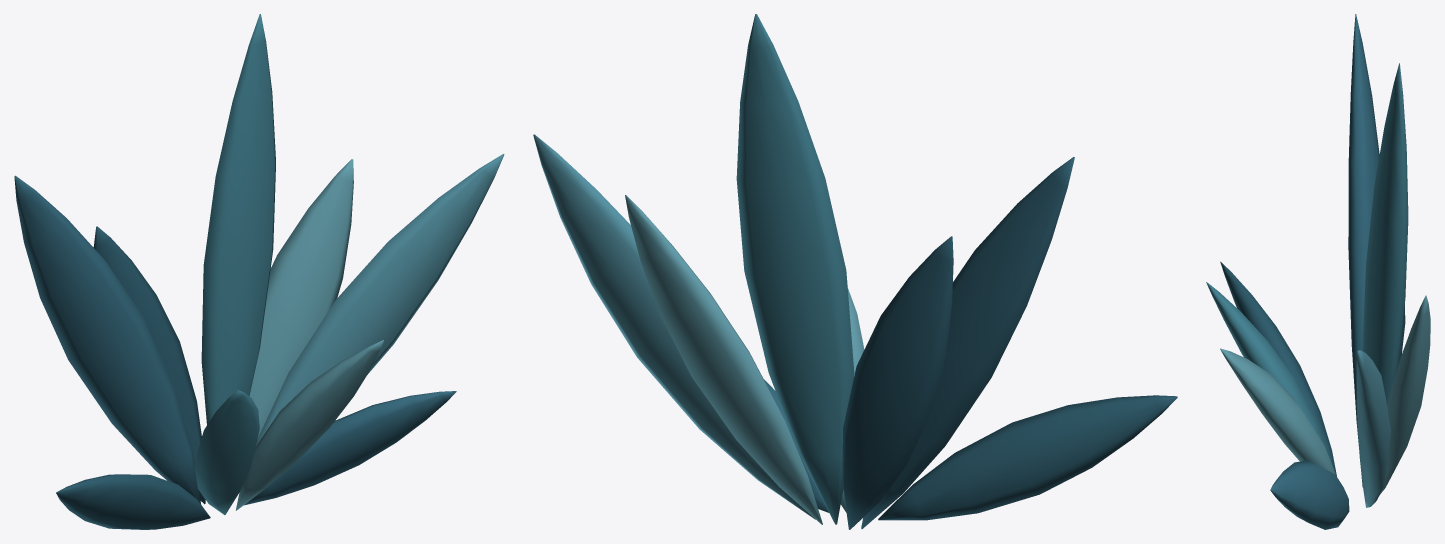
File: teal_grass_tuft.glb
The picture shows the model from 3 angles, left to right: view 1: azimuth 30°, elevation 25°; view 2: azimuth 150°, elevation 25°; view 3: azimuth 270°, elevation 25°; orthographic projection. The views are drawn at different scales.
Parts seen in each view (by area): view 1: Curved_Grass_Blade_1, Curved_Grass_Blade_3, Curved_Grass_Blade_5, Curved_Grass_Blade_4, Curved_Grass_Blade_6, Curved_Grass_Blade_9, Curved_Grass_Blade_7, Curved_Grass_Blade_8, Curved_Grass_Blade_2; view 2: Curved_Grass_Blade_3, Curved_Grass_Blade_2, Curved_Grass_Blade_1, Curved_Grass_Blade_7, Curved_Grass_Blade_4, Curved_Grass_Blade_5; view 3: Curved_Grass_Blade_3, Curved_Grass_Blade_1, Curved_Grass_Blade_9, Curved_Grass_Blade_4, Curved_Grass_Blade_5, Curved_Grass_Blade_6, Curved_Grass_Blade_8, Curved_Grass_Blade_7.
Part boxes in pixels (x1,y1,x2,y2): Curved_Grass_Blade_1: (14,175,200,503); Curved_Grass_Blade_3: (201,14,275,424); Curved_Grass_Blade_5: (256,154,504,445); Curved_Grass_Blade_4: (249,159,353,438); Curved_Grass_Blade_6: (244,391,456,505); Curved_Grass_Blade_9: (235,340,383,510); Curved_Grass_Blade_7: (56,474,210,529); Curved_Grass_Blade_8: (194,390,259,514); Curved_Grass_Blade_2: (93,226,205,504); Curved_Grass_Blade_3: (736,14,854,524); Curved_Grass_Blade_2: (842,236,953,529); Curved_Grass_Blade_1: (861,157,1074,528); Curved_Grass_Blade_7: (878,395,1177,520); Curved_Grass_Blade_4: (625,195,822,524); Curved_Grass_Blade_5: (533,134,815,519); Curved_Grass_Blade_3: (1362,63,1408,405); Curved_Grass_Blade_1: (1348,14,1379,487); Curved_Grass_Blade_9: (1220,348,1335,474); Curved_Grass_Blade_4: (1380,295,1430,494); Curved_Grass_Blade_5: (1356,350,1390,507); Curved_Grass_Blade_6: (1270,460,1349,529); Curved_Grass_Blade_8: (1206,282,1329,458); Curved_Grass_Blade_7: (1220,261,1336,476).
Bounding box in the file's own units: 1.1 × 0.9423 × 0.4146.
